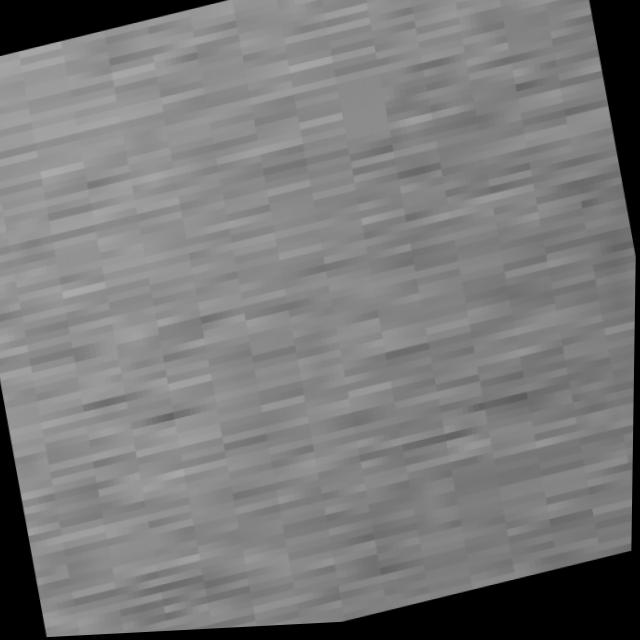metal-plates: (1, 1, 638, 639)
